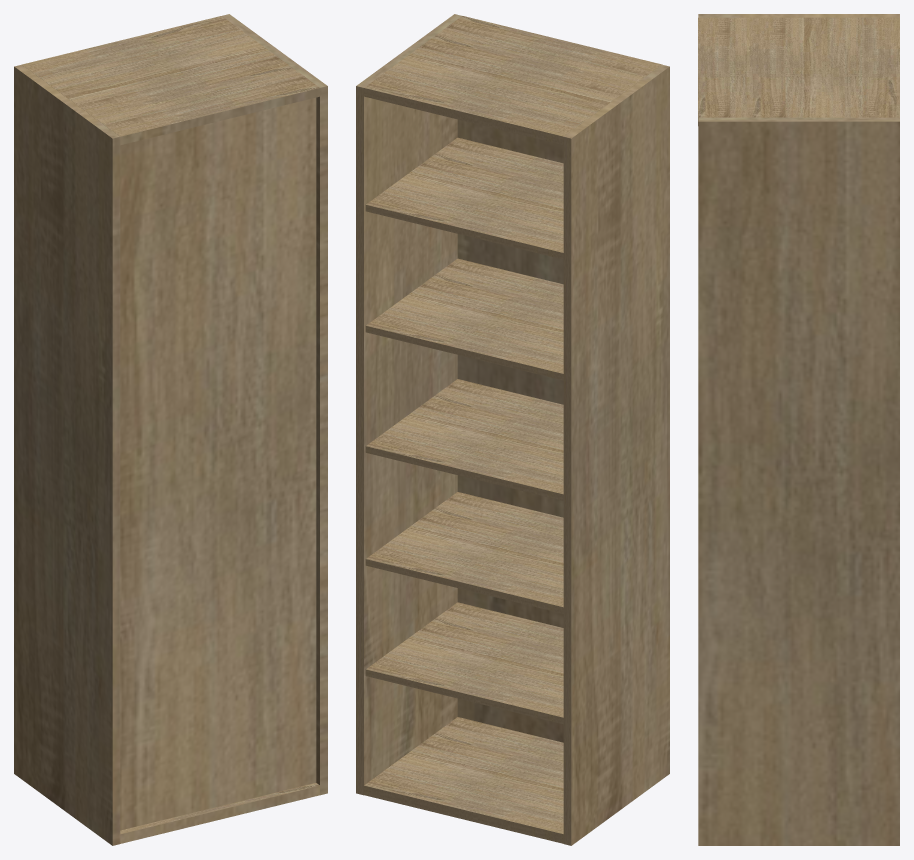
3 views of the same model, side by side, from view 1: azimuth 30°, elevation 25°; view 2: azimuth 150°, elevation 25°; view 3: azimuth 270°, elevation 25° (orthographic). The views are drawn at different scales.
Parts seen in each view (by area): view 1: Bundle_1_04141-Oak; view 2: Bundle_1_04141-Oak, Bundle_1_04141-Oak_Edging; view 3: Bundle_1_04141-Oak.
Boxes of the visible parts, x1,y1,x2,y2 form: Bundle_1_04141-Oak: (14, 14, 327, 845); Bundle_1_04141-Oak: (356, 14, 669, 845); Bundle_1_04141-Oak_Edging: (356, 86, 571, 845); Bundle_1_04141-Oak: (698, 14, 899, 845).
Size of the model in its own units: 0.5057 by 1.59 by 0.401.
Materials: 2 (2 with a texture image).
